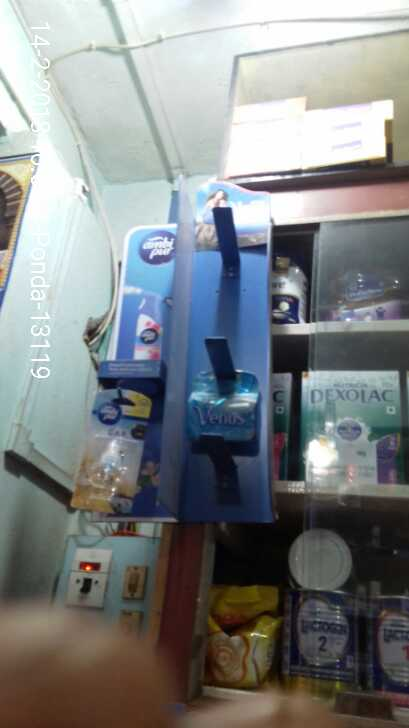beauty: (187, 374, 261, 454)
